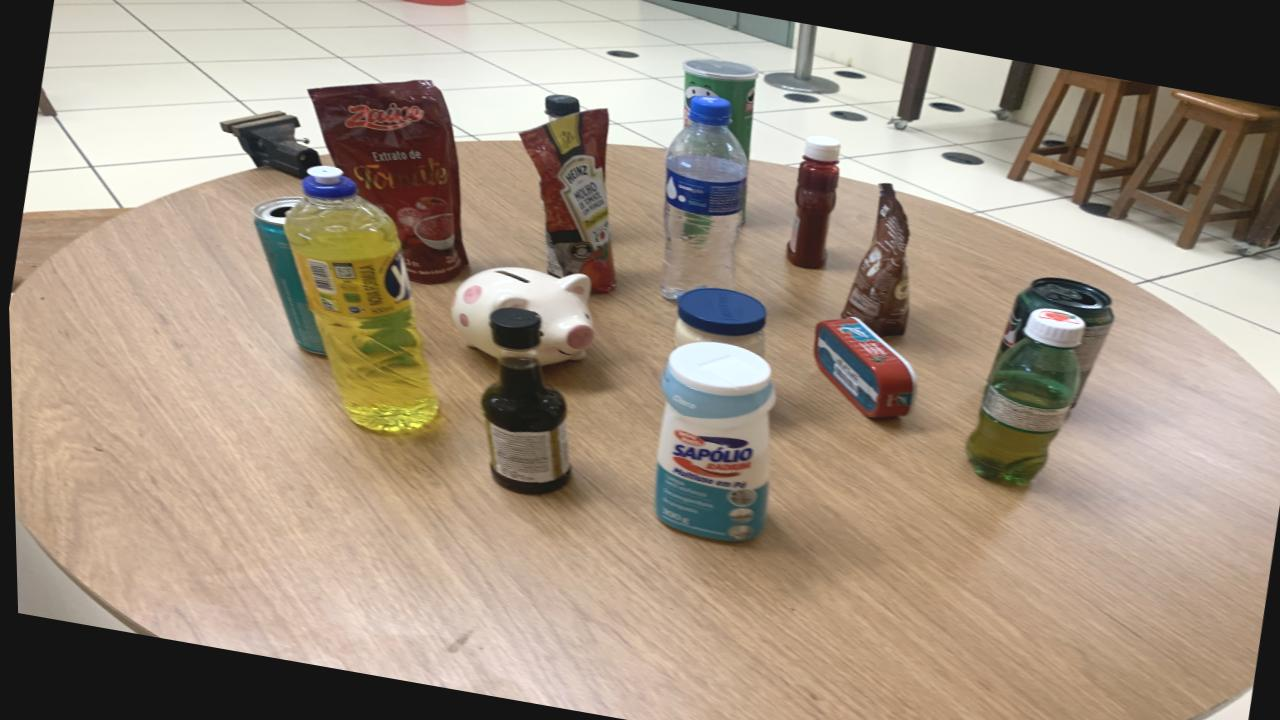Cleaner-Cleanup_Items: (651, 341, 773, 541)
Coffee-Pantry_Items: (838, 183, 908, 336)
Detergent-Cleanup_Items: (282, 167, 436, 432)
English_Sauce-Pantry_Items: (477, 306, 567, 494), (543, 93, 579, 117)
Guarana-Drinks: (963, 308, 1083, 484)
Guarana_Can-Drinks: (995, 277, 1112, 393)
Ketchup-Pantry_Items: (784, 135, 839, 269)
Mayonnaise-Pantry_Items: (671, 287, 764, 356)
Pig_Safe-Miscellaneous: (448, 266, 592, 365)
Pringles-Snacks: (682, 58, 758, 157)
Tea-Drinks: (250, 196, 323, 354)
Tomato_Sauce-Pantry_Items: (306, 79, 466, 284), (518, 108, 614, 293)
Tuna_Can-Pantry_Items: (810, 318, 914, 418)
Water_Bottle-Drinks: (657, 96, 747, 300)
